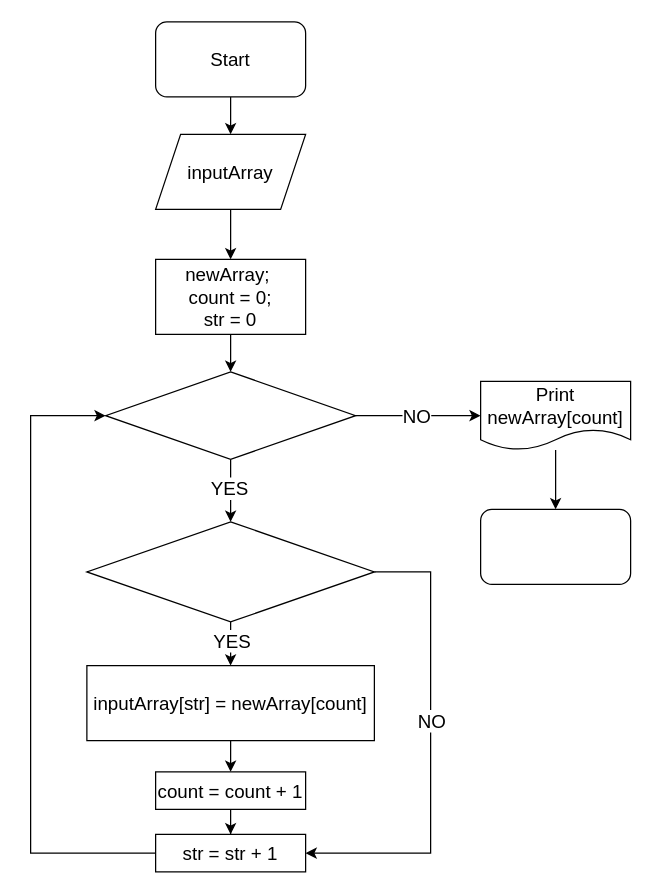
Image size: 653x894. Some labels were removed from this diagram. Here are the shapes that lost their labels. From the top down, the centre of each, then its label:
the point at 230,415: str <= inputArray.Length
the point at 555,546: END
the point at 230,571: inputArray[str.Length] <= 3
